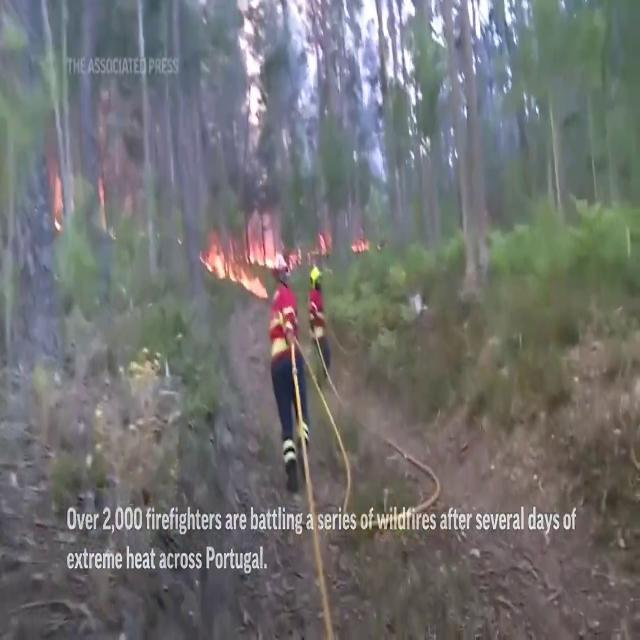Fire: (202, 219, 284, 297)
